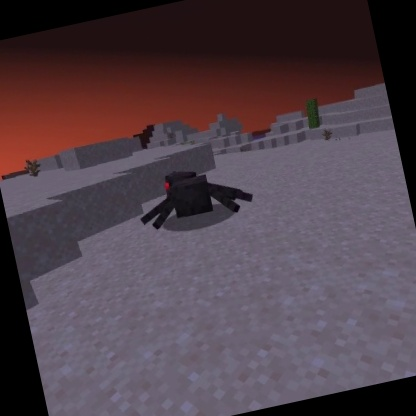spider: (129, 152, 259, 238)
